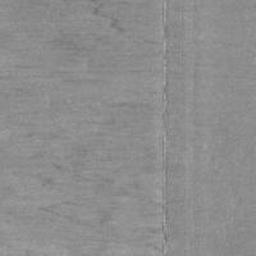Welding line: (161, 0, 170, 256)
